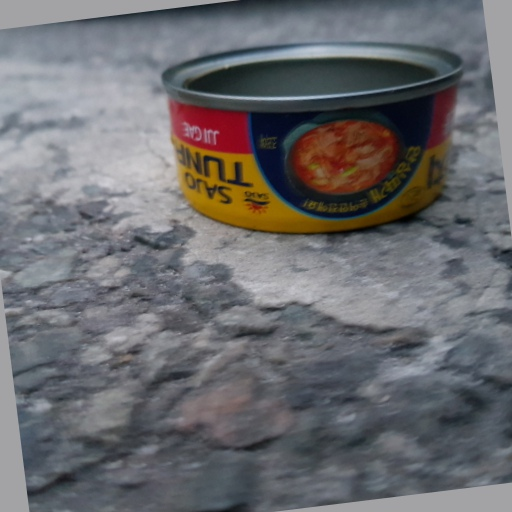Metal_1: (159, 41, 465, 231)
